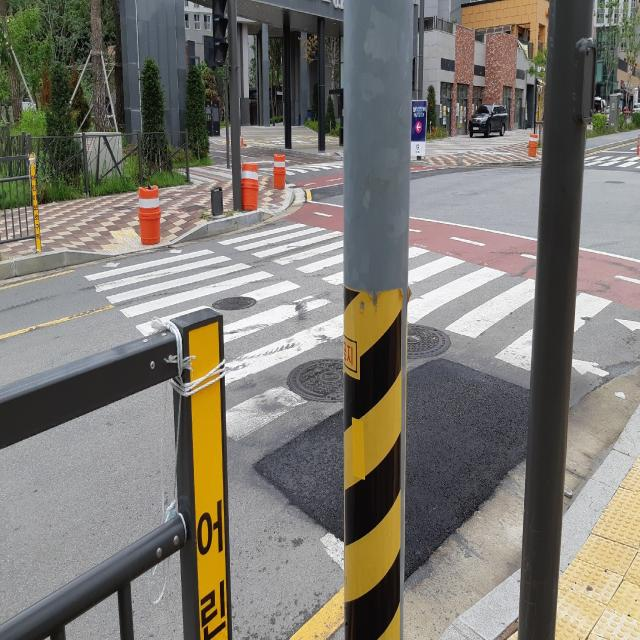횡단보도: (80, 221, 640, 576), (252, 157, 344, 175)
